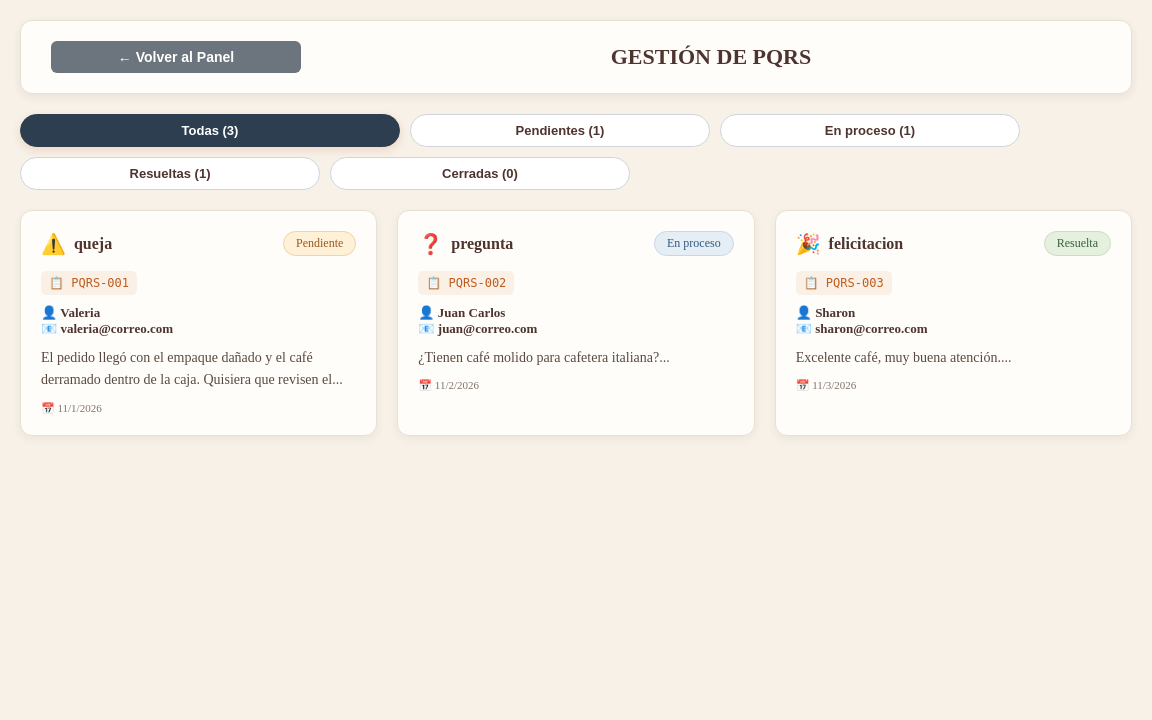
Test: VerPqrs - responder / aprobar › enviar respuesta › no envía si la respuesta está vacía y muestra error
This screenshot has width=1152, height=720.
Check: the heading "GESTIÓN DE PQRS" is shown, box [611,44,811,69]
Step 1. Click the text "📋 PQRS-001" → (89, 283), box [41,271,137,295]
(page scrolled)
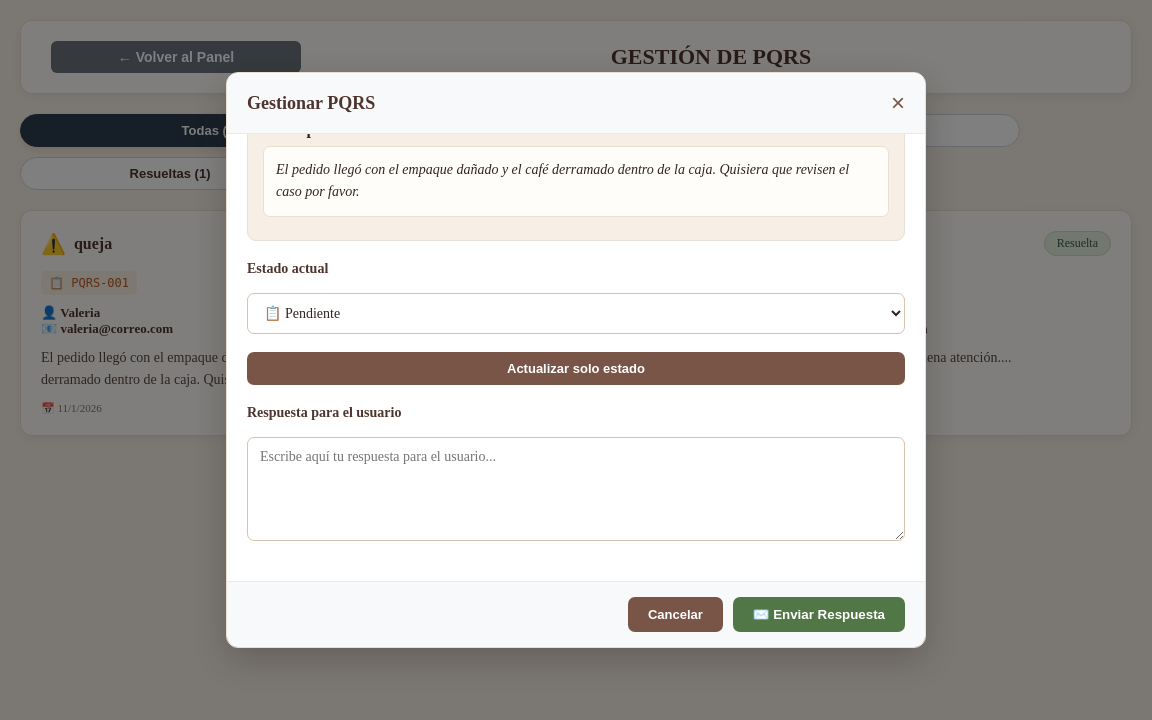
Check: the heading "Gestionar PQRS" is shown, box [247,92,375,114]
Step 2. Click the button "✉️ Enviar Respuesta" → (819, 614), box [733,597,905,632]
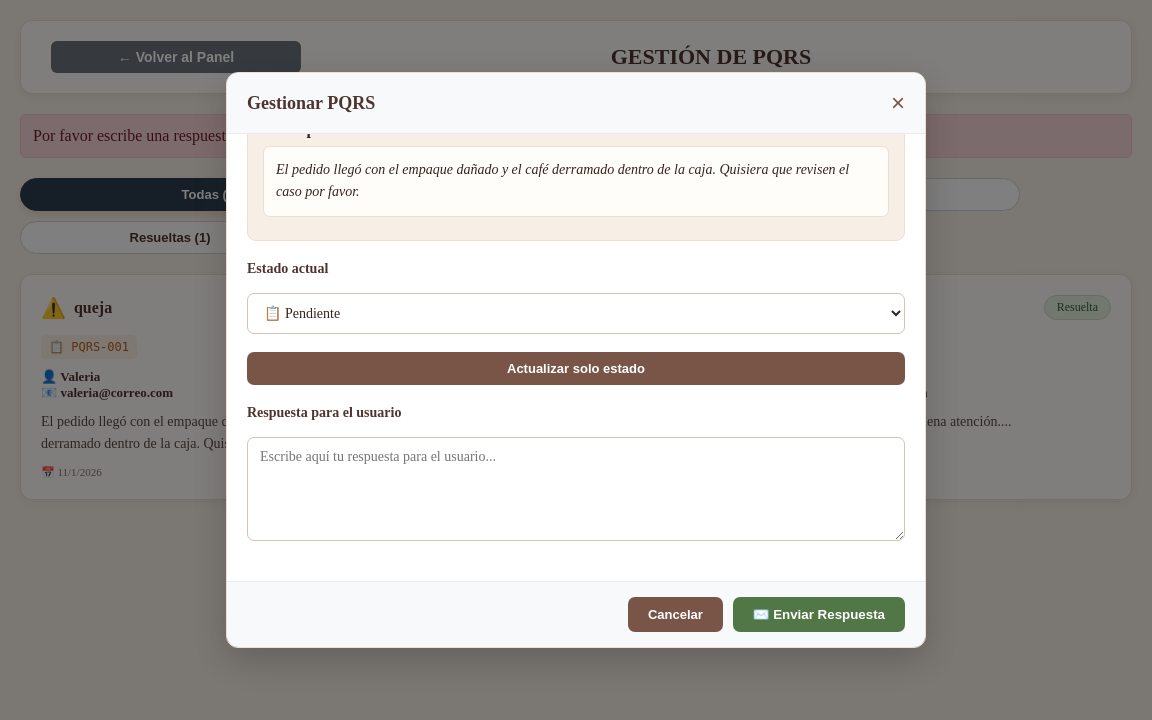
Check: the text "Por favor escribe una respuesta antes de enviar" is shown, box [20,114,1132,158]
